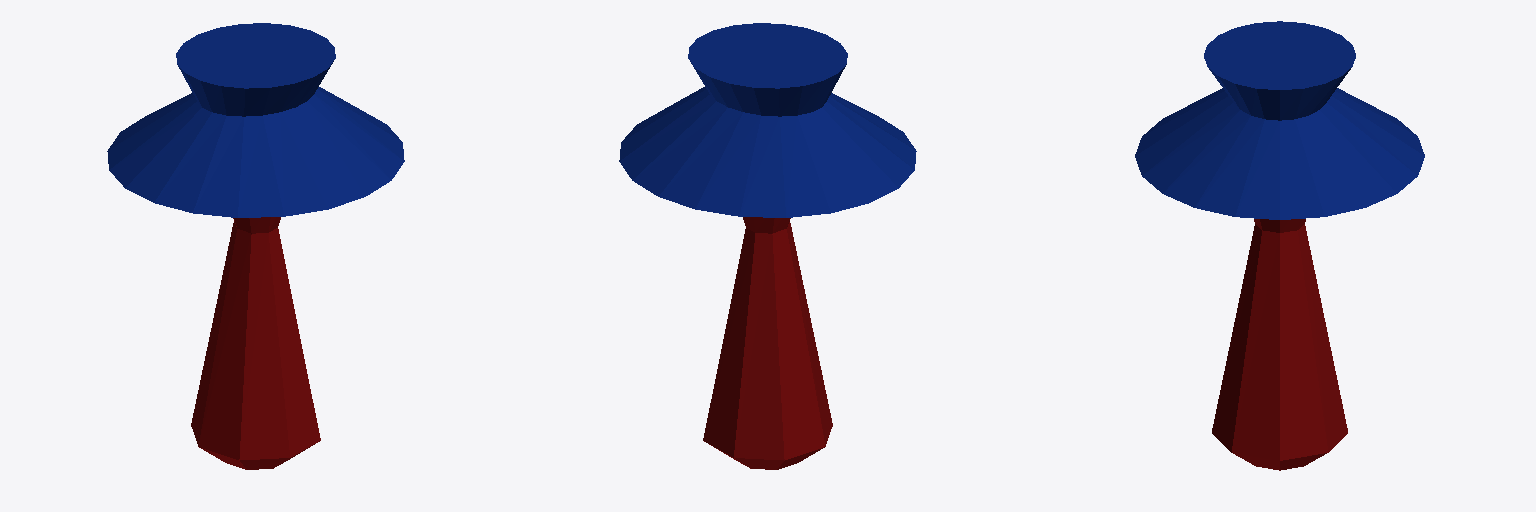
The model's file is LAMPTEXT_EXP.obj.
3 views of the same model, side by side, from view 1: azimuth 30°, elevation 25°; view 2: azimuth 150°, elevation 25°; view 3: azimuth 270°, elevation 25° (orthographic).
Parts seen in each view (by area): view 1: Lamp_remodel:pCylinder2, Lamp_remodel:pCylinder1; view 2: Lamp_remodel:pCylinder2, Lamp_remodel:pCylinder1; view 3: Lamp_remodel:pCylinder2, Lamp_remodel:pCylinder1.
Part boxes in pixels (x1,y1,x2,y2): Lamp_remodel:pCylinder2: (107, 23, 404, 217); Lamp_remodel:pCylinder1: (191, 217, 320, 469); Lamp_remodel:pCylinder2: (619, 23, 916, 217); Lamp_remodel:pCylinder1: (703, 217, 832, 469); Lamp_remodel:pCylinder2: (1135, 21, 1424, 219); Lamp_remodel:pCylinder1: (1212, 219, 1347, 470).
Size of the model in its own units: 8.82 by 12.89 by 8.47.